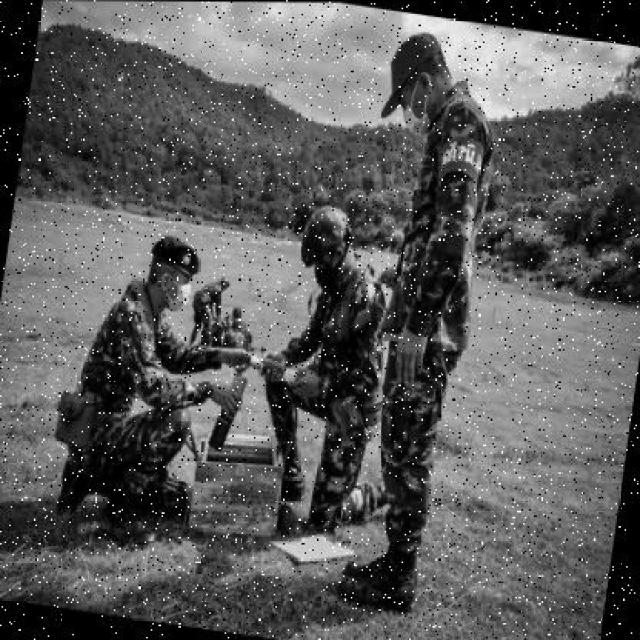MIL_Pax: (328, 24, 549, 627), (234, 194, 401, 574), (40, 218, 229, 551), (182, 251, 228, 344)
